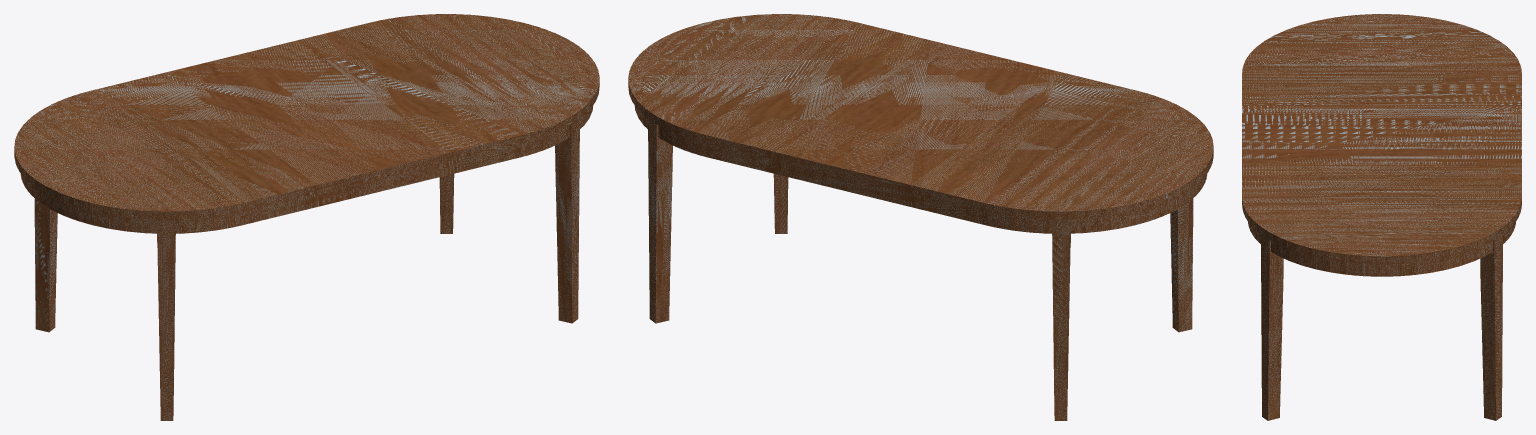
The model's file is table.dae.
3 views of the same model, side by side, from view 1: azimuth 30°, elevation 25°; view 2: azimuth 150°, elevation 25°; view 3: azimuth 270°, elevation 25° (orthographic). The views are drawn at different scales.
Parts seen in each view (by area): view 1: Hans.K_Inzel_Oval_bordsgavell_75x100 (×6), Hans.K_Inzel_Iläggsskiva_50cm (×2); view 2: Hans.K_Inzel_Oval_bordsgavell_75x100 (×6), Hans.K_Inzel_Iläggsskiva_50cm (×2); view 3: Hans.K_Inzel_Oval_bordsgavell_75x100 (×4), Hans.K_Inzel_Iläggsskiva_50cm.
Part boxes in pixels (x1,y1,x2,y2): Hans.K_Inzel_Oval_bordsgavell_75x100 (×6): (14,14,599,420); Hans.K_Inzel_Iläggsskiva_50cm (×2): (164,40,449,207); Hans.K_Inzel_Oval_bordsgavell_75x100 (×6): (628,14,1213,420); Hans.K_Inzel_Iläggsskiva_50cm (×2): (778,40,1063,207); Hans.K_Inzel_Oval_bordsgavell_75x100 (×4): (1242,14,1521,420); Hans.K_Inzel_Iläggsskiva_50cm: (1242,105,1521,164).
Size of the model in its own units: 80.71 by 39.37 by 29.95.
Materials: 3 (1 with a texture image).
